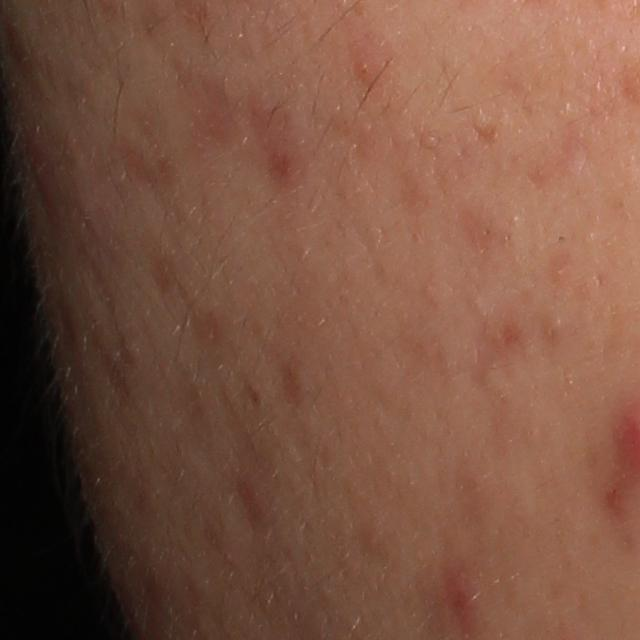atrophic_scar: (179, 61, 248, 166), (249, 88, 315, 197), (473, 121, 500, 149)
papule: (441, 571, 479, 640)
